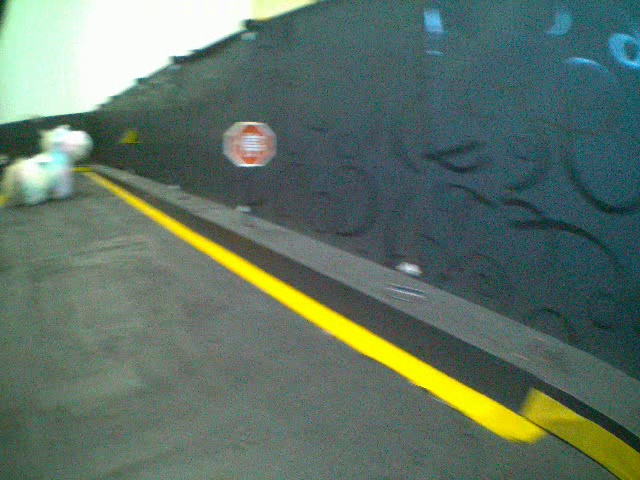unicorn: (2, 123, 103, 208)
